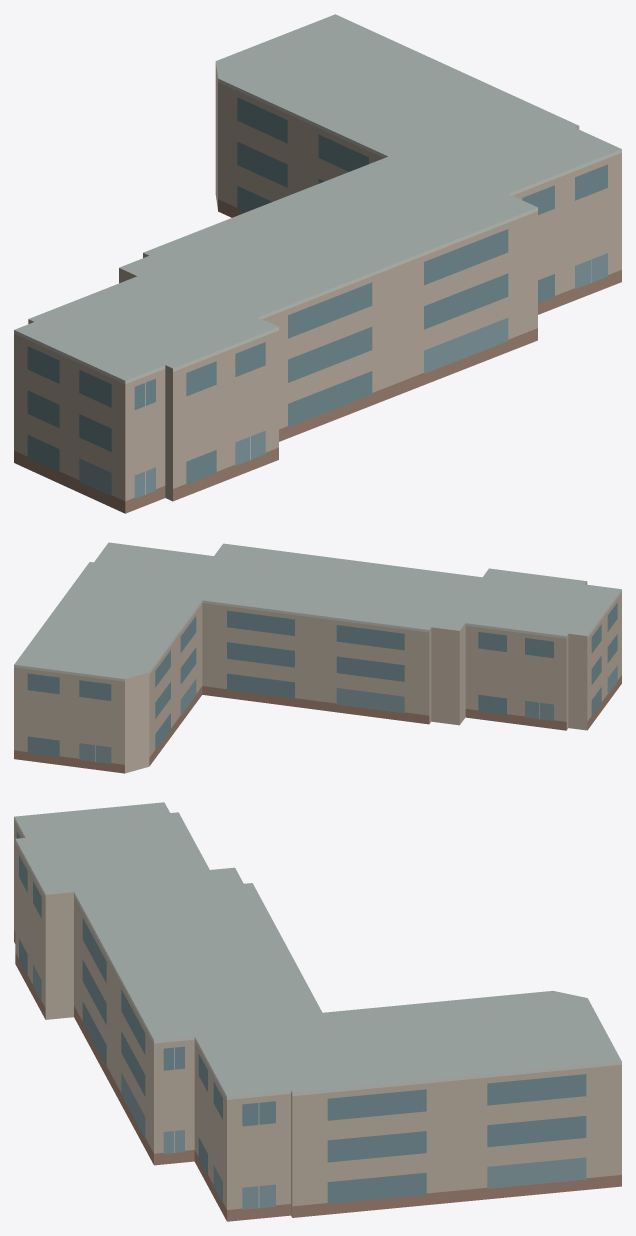
The model's file is survey-upis-32964694.glb.
3 renders of one model, top to bottom at view 1: azimuth 30°, elevation 25°; view 2: azimuth 150°, elevation 25°; view 3: azimuth 270°, elevation 25°, orthographic. The views are drawn at different scales.
Parts seen in each view (by area): view 1: survey-upis-32964694.tmp; view 2: survey-upis-32964694.tmp; view 3: survey-upis-32964694.tmp.
Boxes of the visible parts, <box> form: survey-upis-32964694.tmp: <box>14,14,621,513</box>; survey-upis-32964694.tmp: <box>14,542,621,773</box>; survey-upis-32964694.tmp: <box>14,802,621,1221</box>.
Size of the model in its own units: 46.19 by 9.15 by 40.31.
